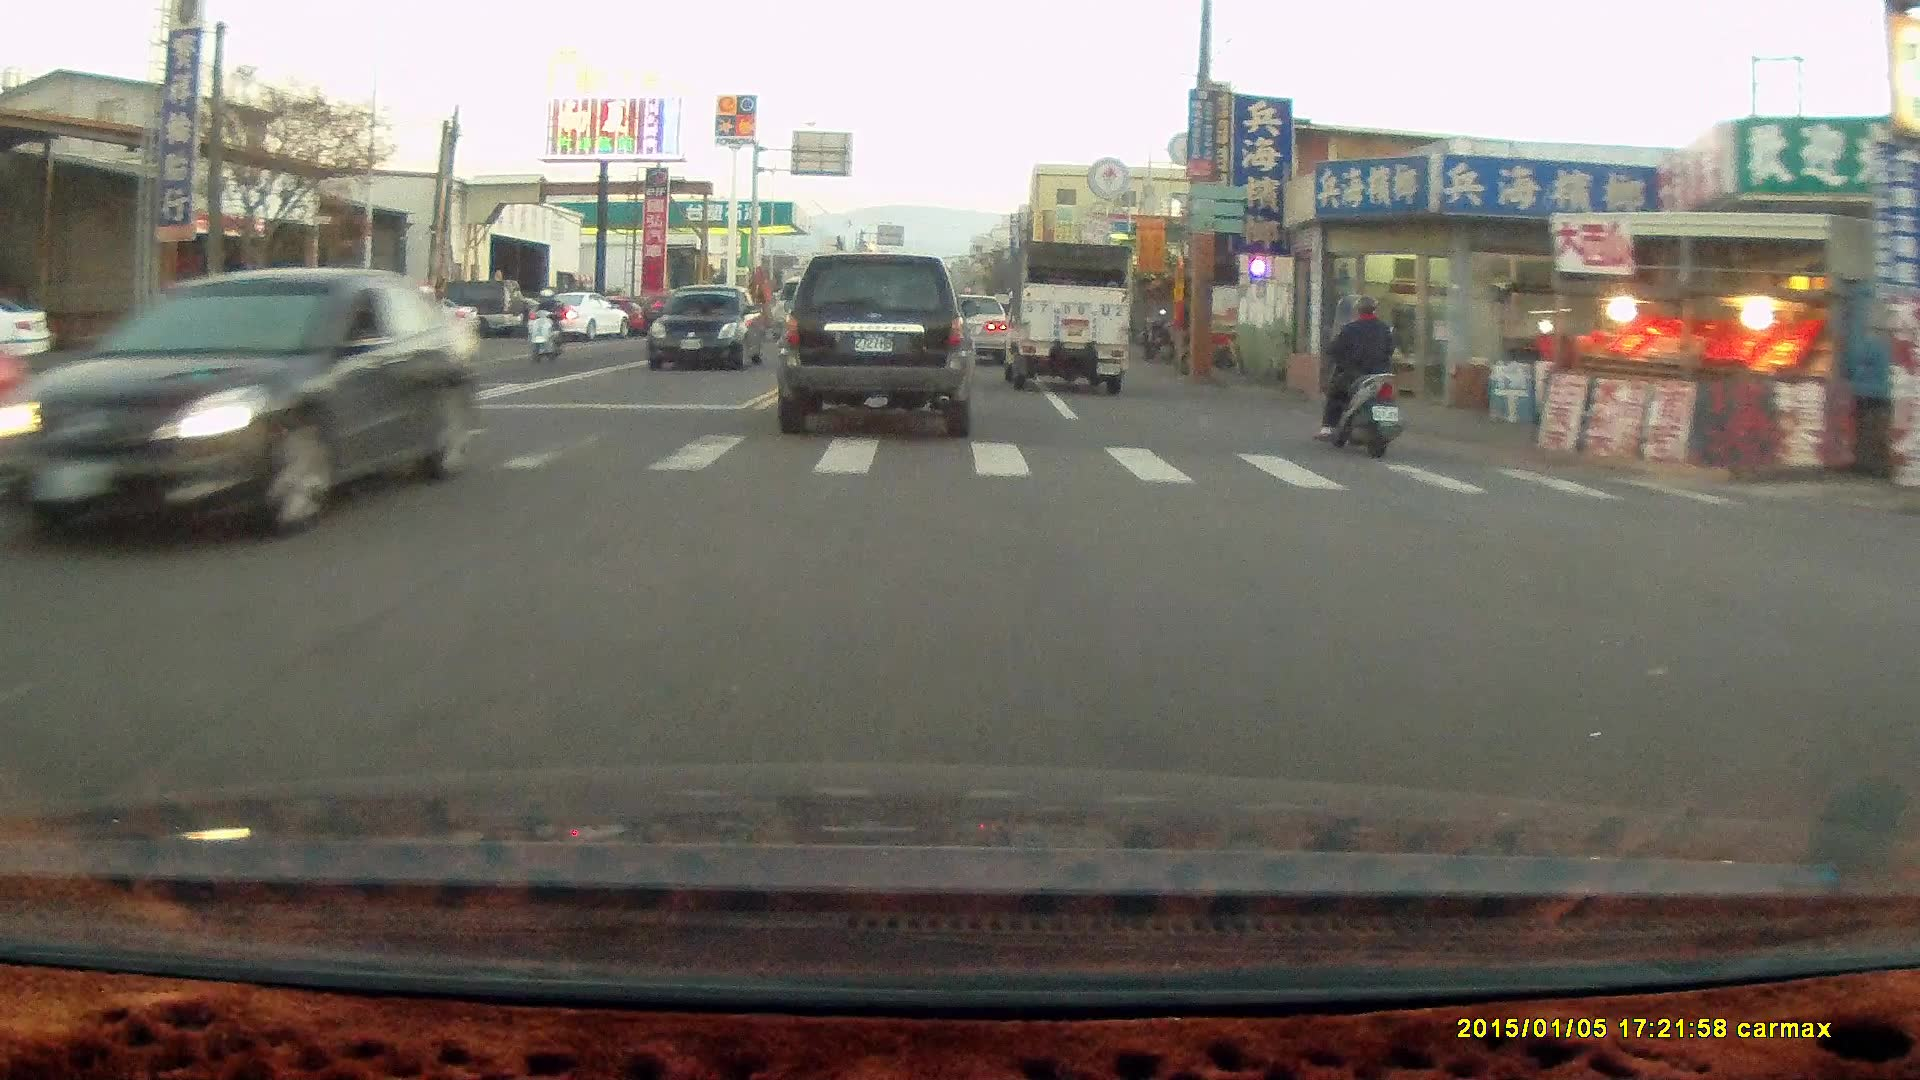rider: (1312, 293, 1404, 459), (526, 282, 567, 360)
vehicle: (1, 268, 475, 542), (774, 252, 979, 438), (999, 236, 1134, 394), (650, 283, 767, 374), (934, 290, 1009, 364), (533, 290, 627, 347), (1, 292, 59, 371)
